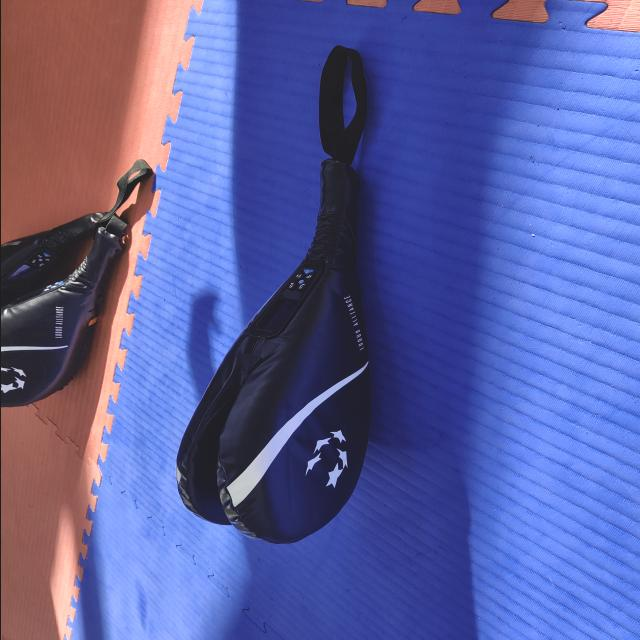paddle: (172, 158, 372, 545)
